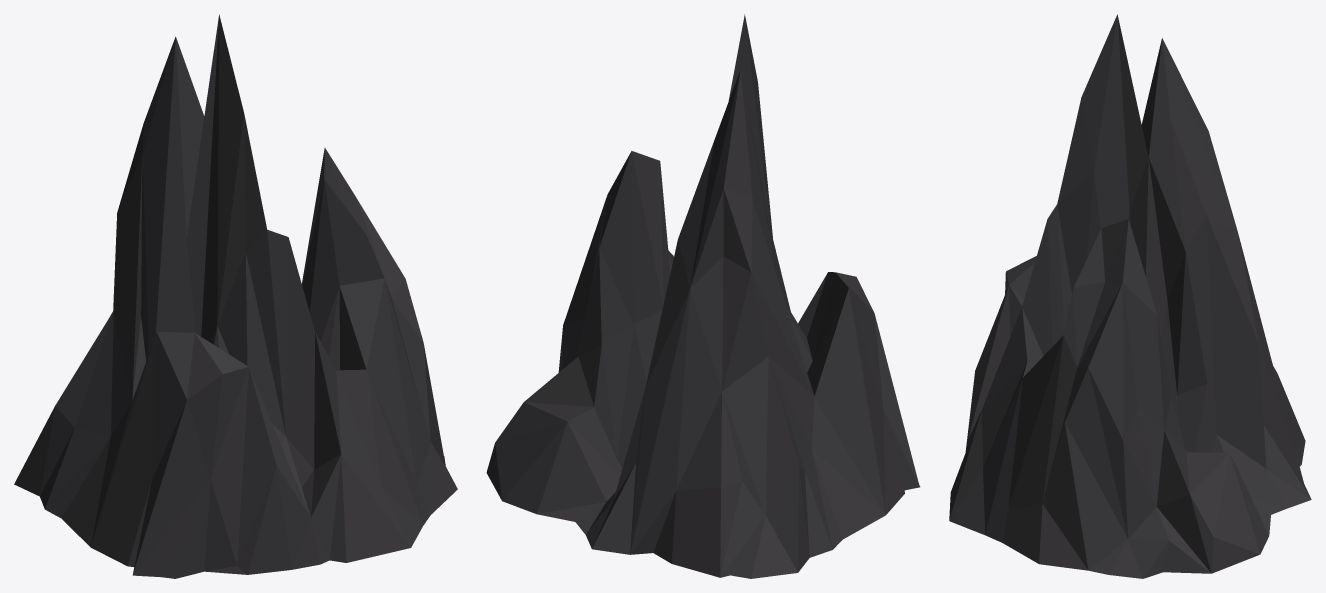
Rendered from AO_Mountain.fbx.
3 views of the same model, side by side, from view 1: azimuth 30°, elevation 25°; view 2: azimuth 150°, elevation 25°; view 3: azimuth 270°, elevation 25° (orthographic). The views are drawn at different scales.
Visible parts, largest first — view 1: AO_Mountain; view 2: AO_Mountain; view 3: AO_Mountain.
Part boxes in pixels (<box>): AO_Mountain: <box>14,14,457,578</box>; AO_Mountain: <box>486,14,920,578</box>; AO_Mountain: <box>949,14,1311,578</box>.
Bounding box in the file's own units: 375 × 482 × 344.
Materials: 1 (1 with a texture image).
